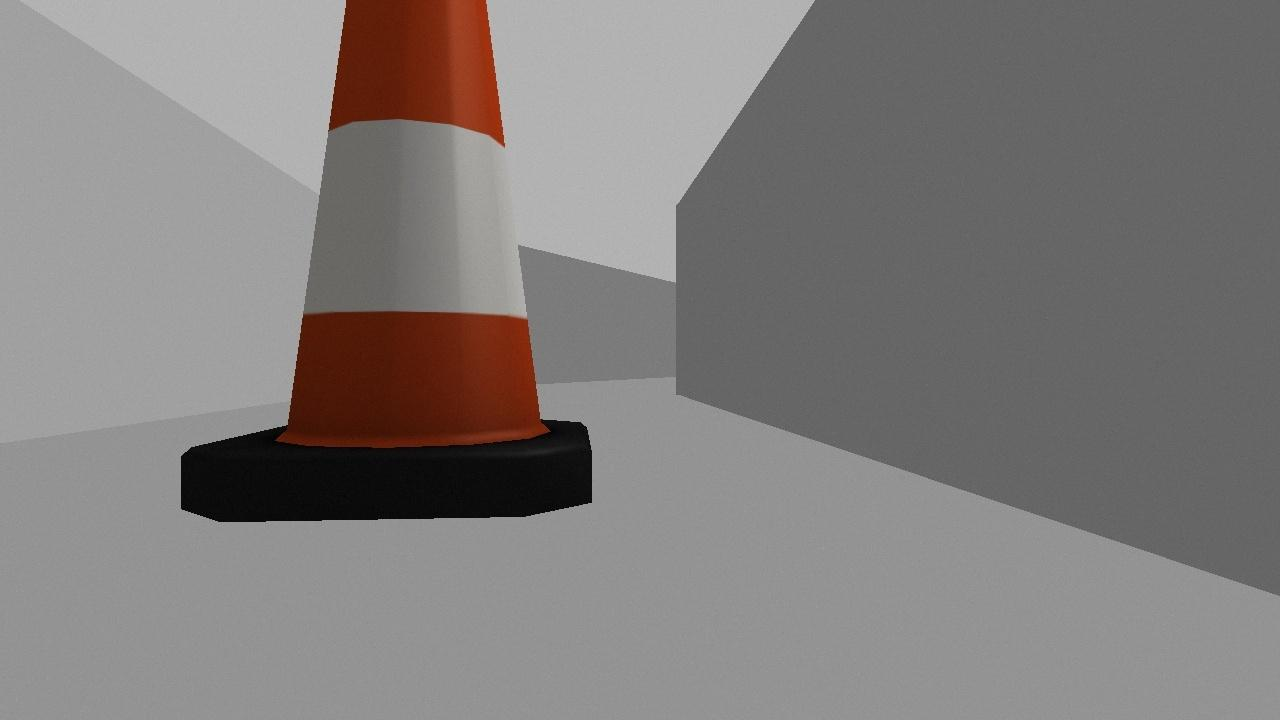cone_barrel: (179, 0, 591, 520)
